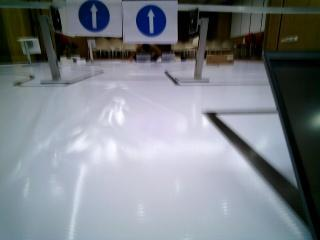straight: (65, 0, 122, 38), (128, 3, 177, 42)
